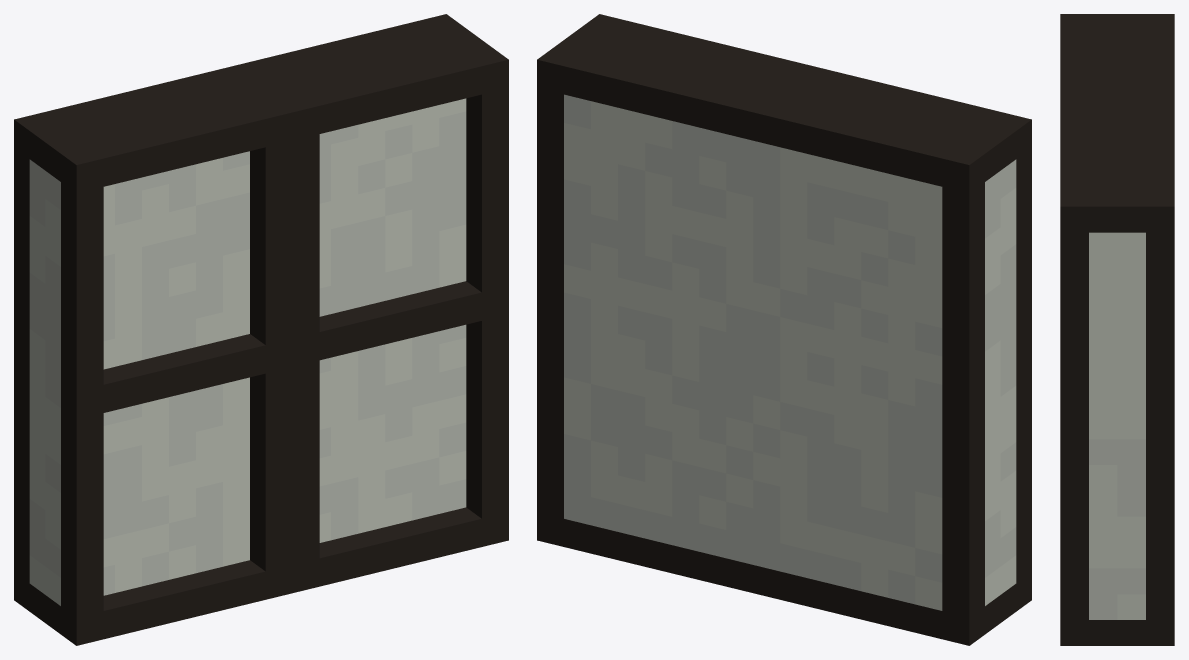
The model's file is tavern-79-wall_tudor1.obj.
3 views of the same model, side by side, from view 1: azimuth 30°, elevation 25°; view 2: azimuth 150°, elevation 25°; view 3: azimuth 270°, elevation 25° (orthographic). The views are drawn at different scales.
Visible parts, largest first — view 1: wall_tudor1; view 2: wall_tudor1; view 3: wall_tudor1.
Boxes of the visible parts, x1,y1,x2,y2 form: wall_tudor1: [14, 14, 508, 645]; wall_tudor1: [537, 14, 1031, 645]; wall_tudor1: [1060, 14, 1174, 645].
Bounding box in the file's own units: 1.6 × 1.7 × 0.4.
1 material, 1 textured.
